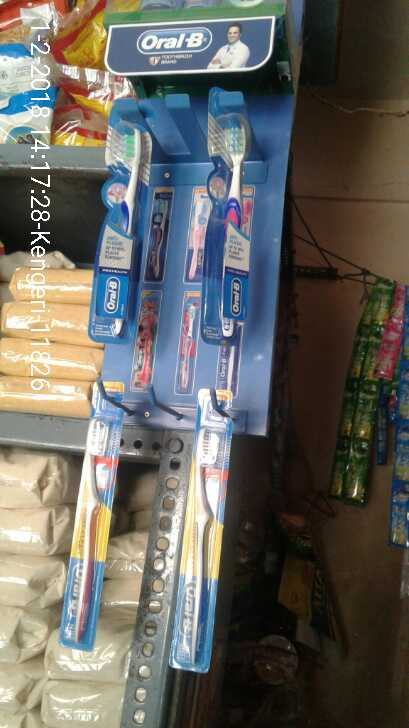oralb: (166, 413, 224, 673), (99, 97, 146, 357), (63, 417, 106, 656), (216, 106, 255, 345)
